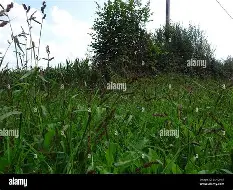weed: (0, 74, 232, 173)
